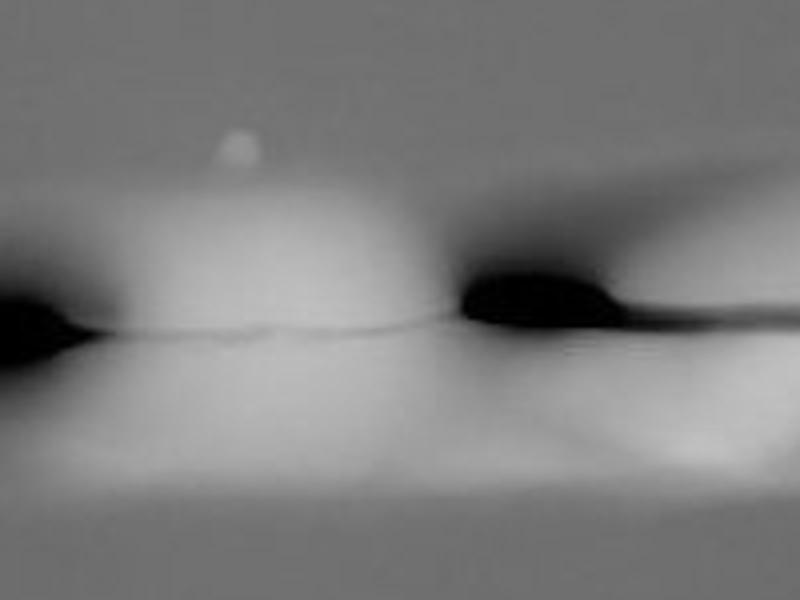defect: (461, 266, 615, 329), (6, 289, 72, 378)
